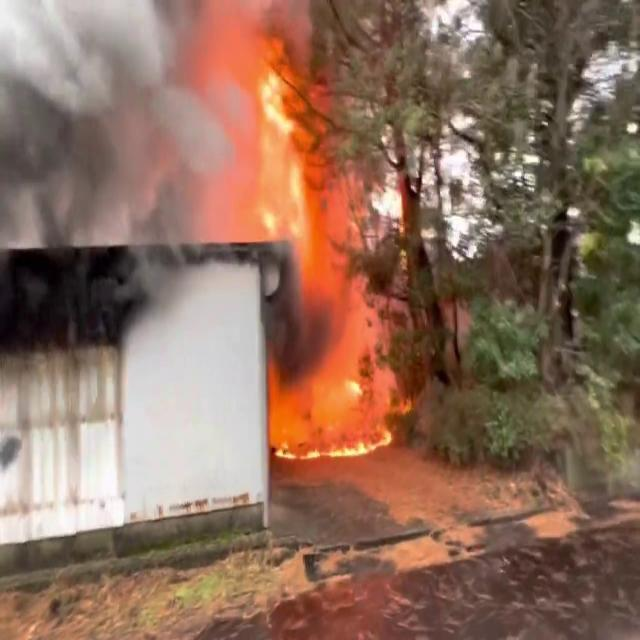Fire: (186, 8, 356, 268), (273, 370, 398, 460)
Smoke: (0, 0, 204, 283)
